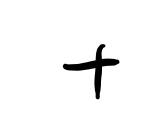plus: (63, 43, 120, 99)
